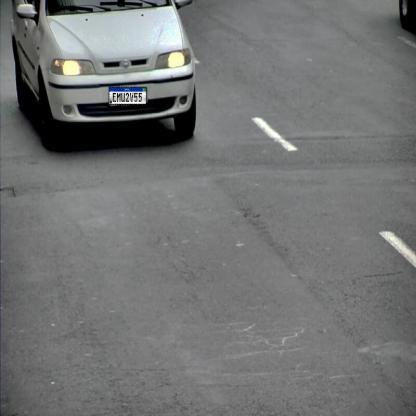PlacaM: (108, 86, 146, 104)
